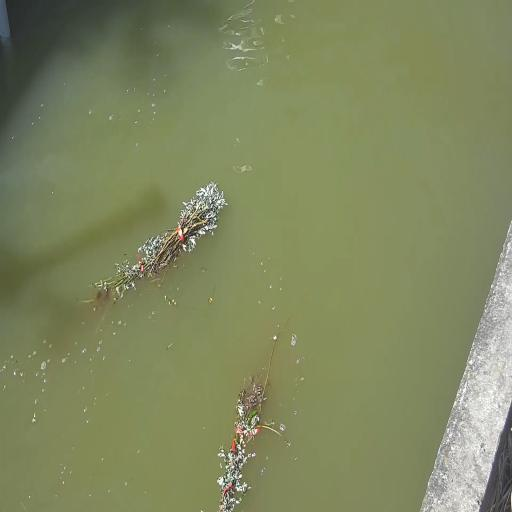twig: (218, 282, 311, 511), (76, 180, 229, 316)
